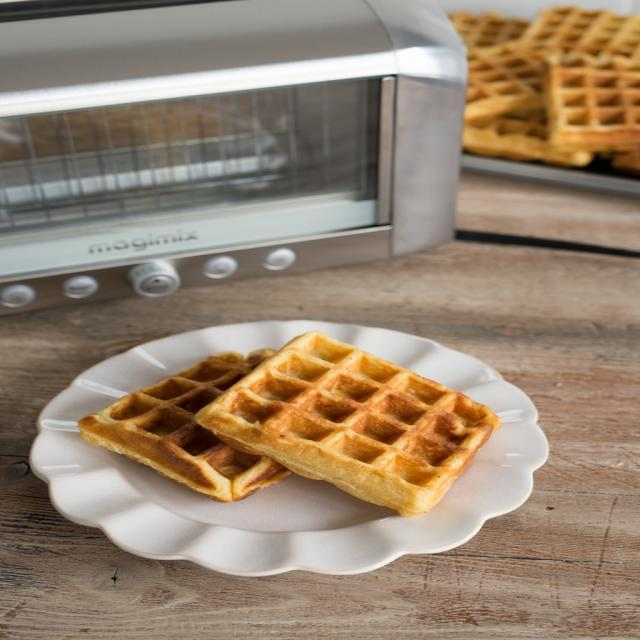Waffle: (195, 329, 497, 515), (68, 348, 296, 513), (445, 7, 639, 167)
